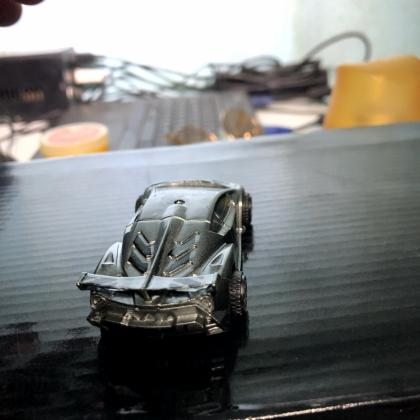Car: (72, 175, 260, 342)
